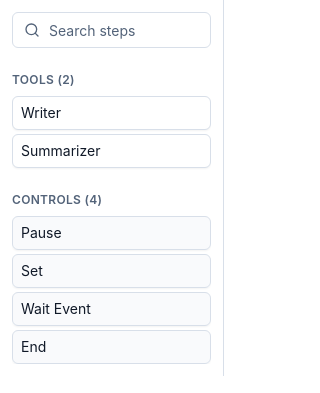
BuilderPalette search › filters tools by the search query (case-insensitive)
Type "writ" into the search field labelled "Search steps" at (112, 30), box [12, 12, 211, 48]
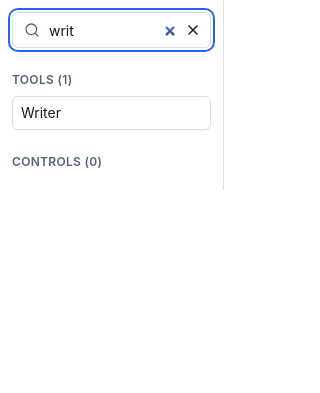
Expected: the text "Writer" is shown, [21, 104, 61, 121]
Now the button "Summarizer" is gone
Now the heading "Tools (1)" is shown, box [12, 72, 72, 87]
